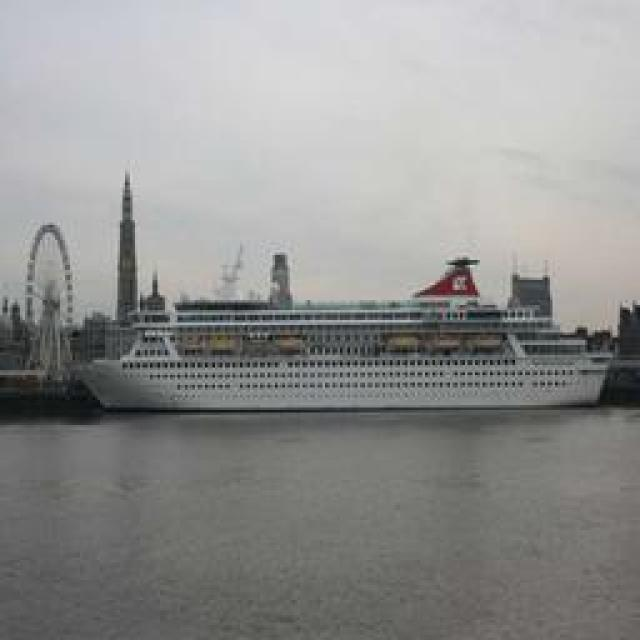CIV_Ship: (67, 265, 625, 415)
